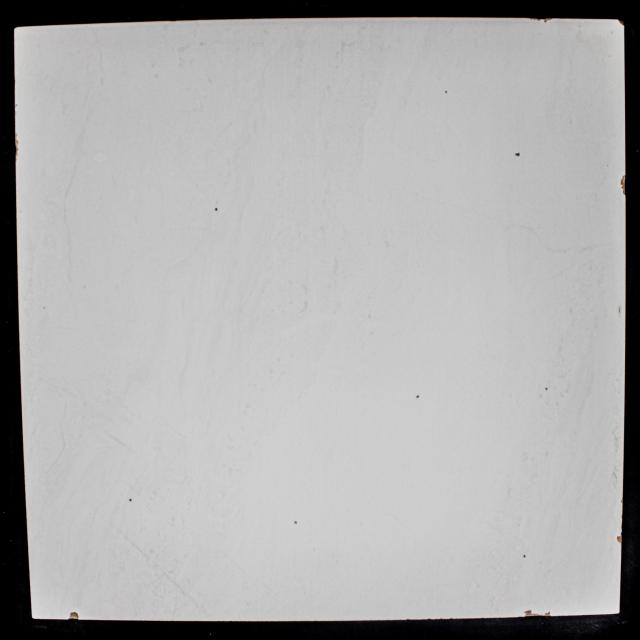edge-chipping: (524, 610, 550, 617), (14, 132, 19, 161), (526, 18, 553, 23), (620, 175, 626, 196), (69, 612, 79, 620), (617, 19, 625, 27), (617, 535, 622, 544)
hole: (515, 152, 521, 157), (416, 395, 420, 399), (214, 207, 218, 211), (444, 90, 448, 94), (523, 554, 526, 558), (129, 498, 132, 502), (545, 387, 548, 390), (294, 521, 297, 524)
